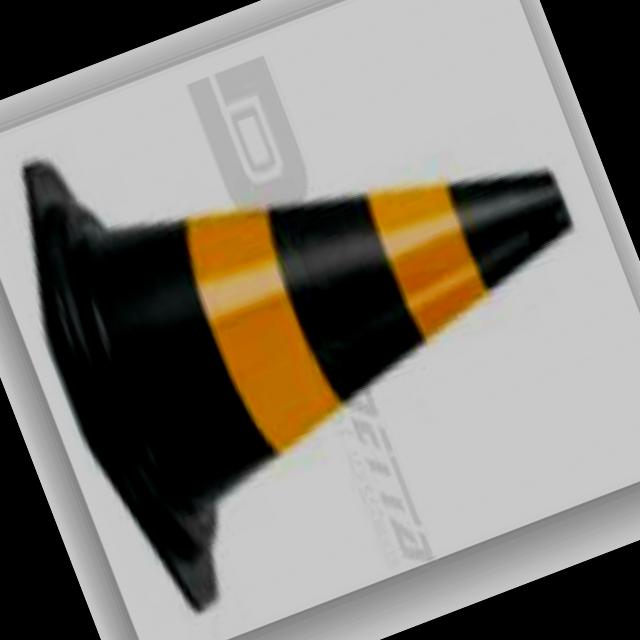cone: (0, 18, 634, 570)
